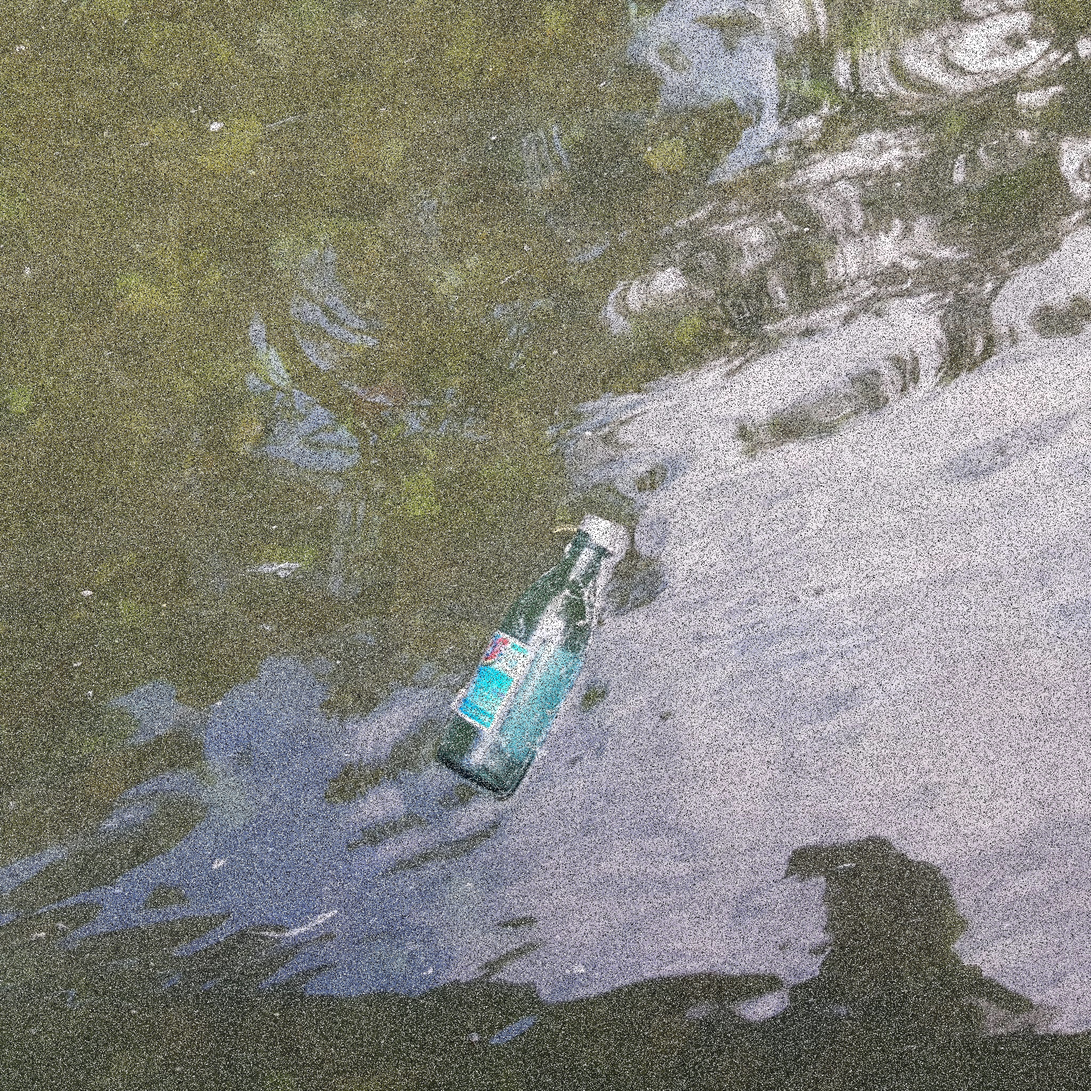sampah_terapung: (439, 514, 622, 796)
